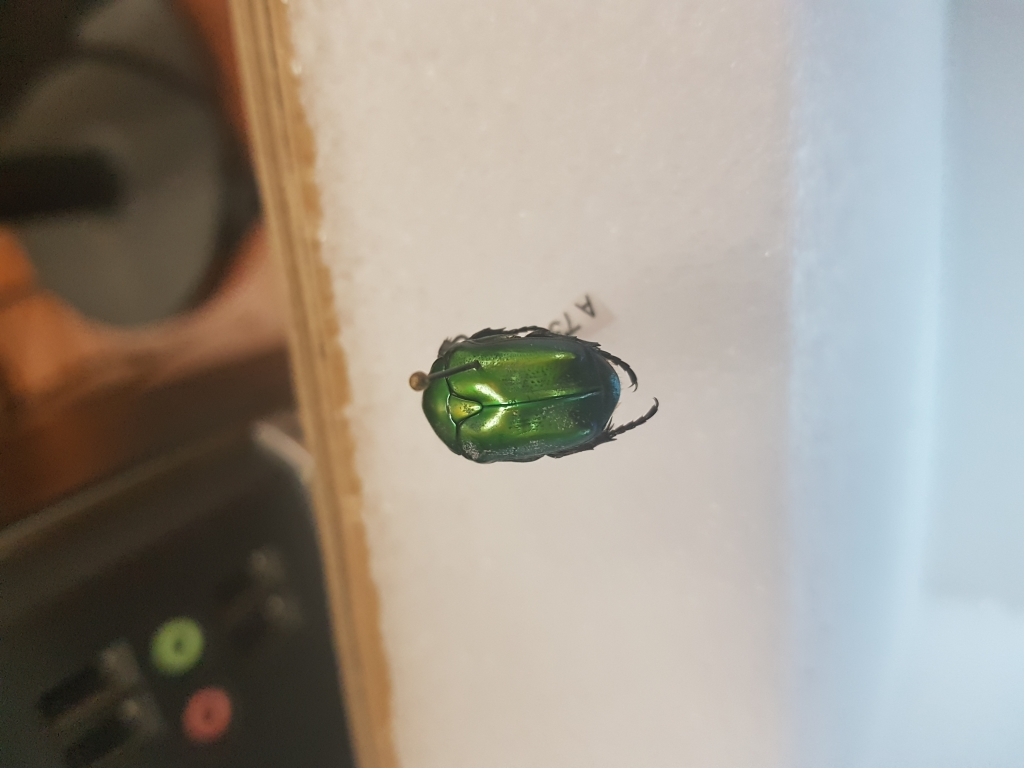Protaetia_cuprea_ignicollis: (411, 317, 668, 475)
